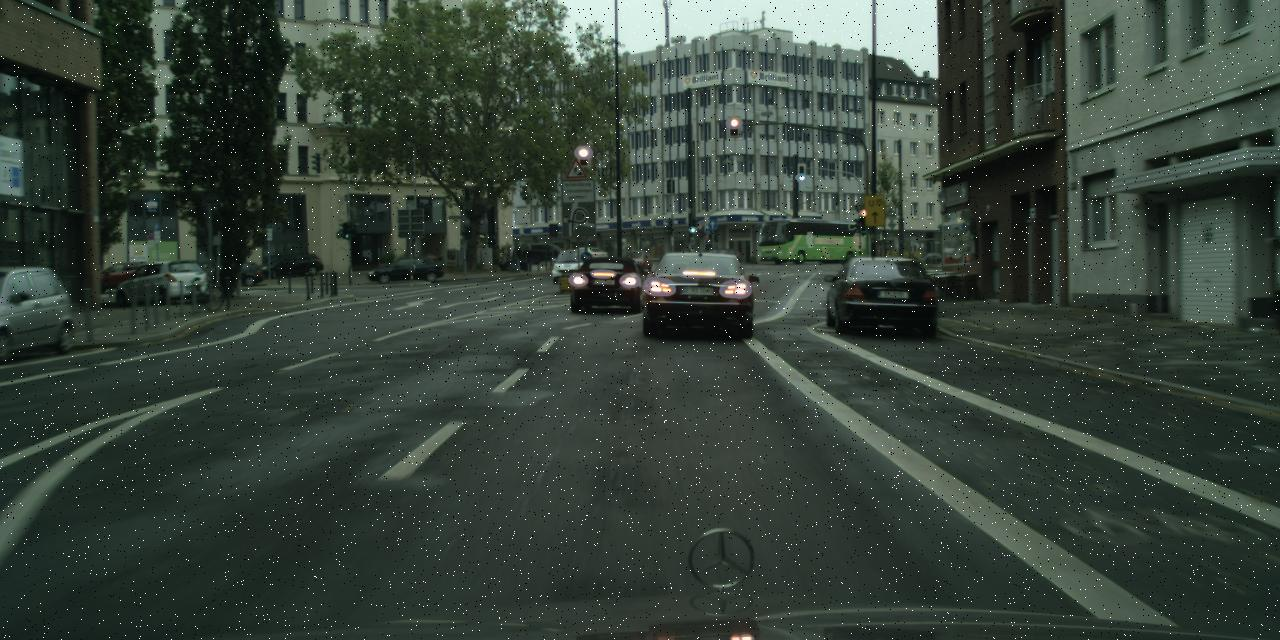ped: (498, 244, 532, 273)
